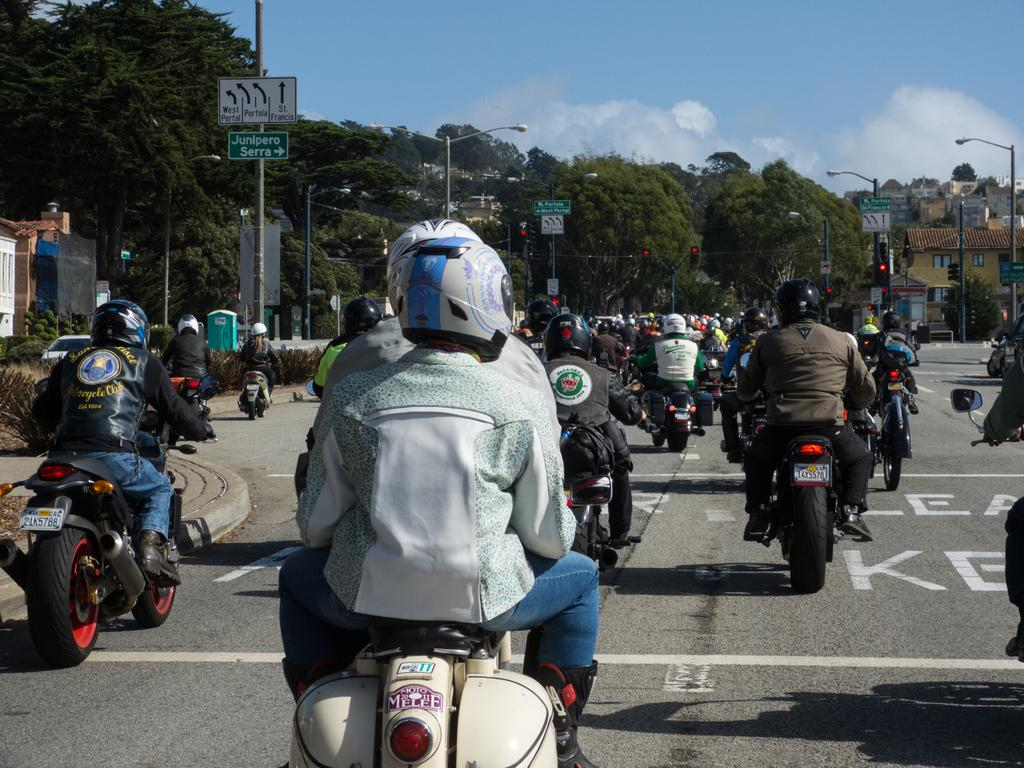helmet: (396, 236, 514, 363), (386, 218, 490, 320), (90, 299, 150, 354), (772, 277, 822, 330), (543, 313, 593, 362), (343, 296, 382, 336), (524, 298, 561, 334), (741, 307, 769, 335), (663, 313, 686, 337), (177, 314, 199, 337), (882, 311, 902, 331), (250, 322, 267, 338), (625, 317, 635, 328), (639, 318, 649, 329), (710, 319, 720, 329), (724, 317, 734, 327), (864, 316, 873, 325)
